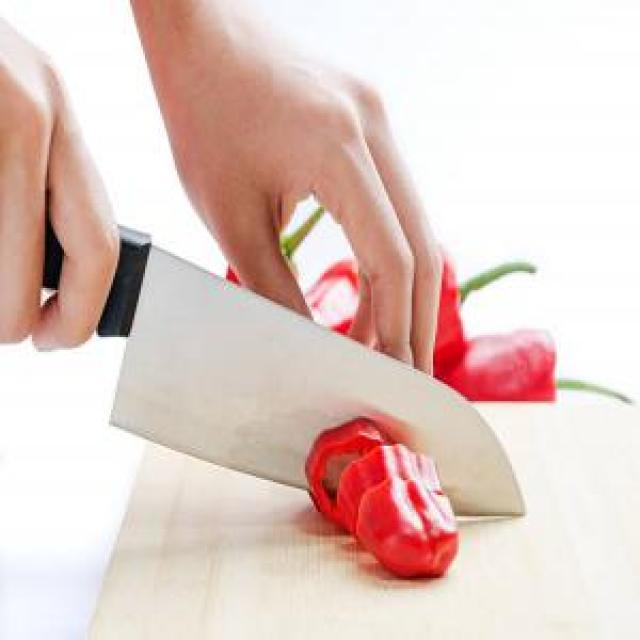knife: (0, 213, 530, 522)
